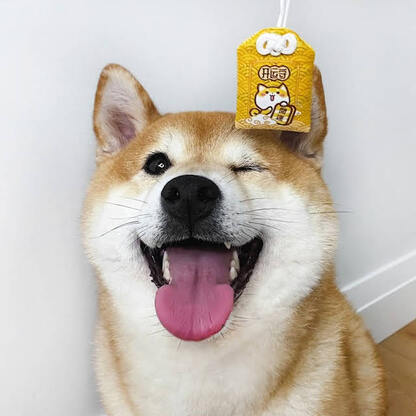shiba: (77, 57, 387, 416)
